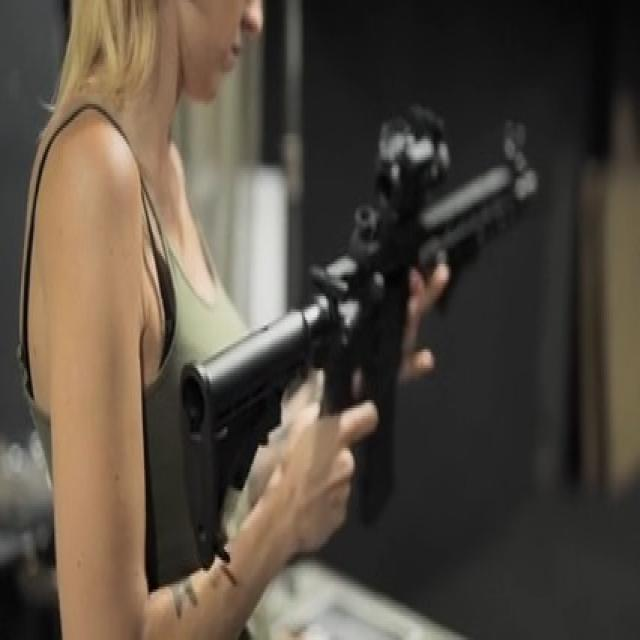Gun_Holder: (145, 79, 587, 562)
Person: (18, 1, 385, 640)
